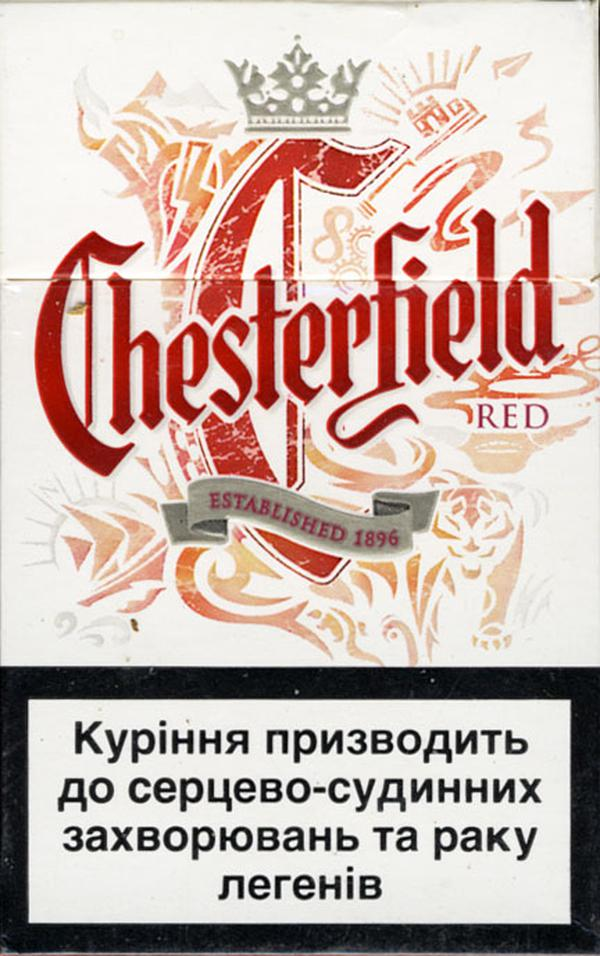chesterfield_red: (1, 9, 600, 952)
